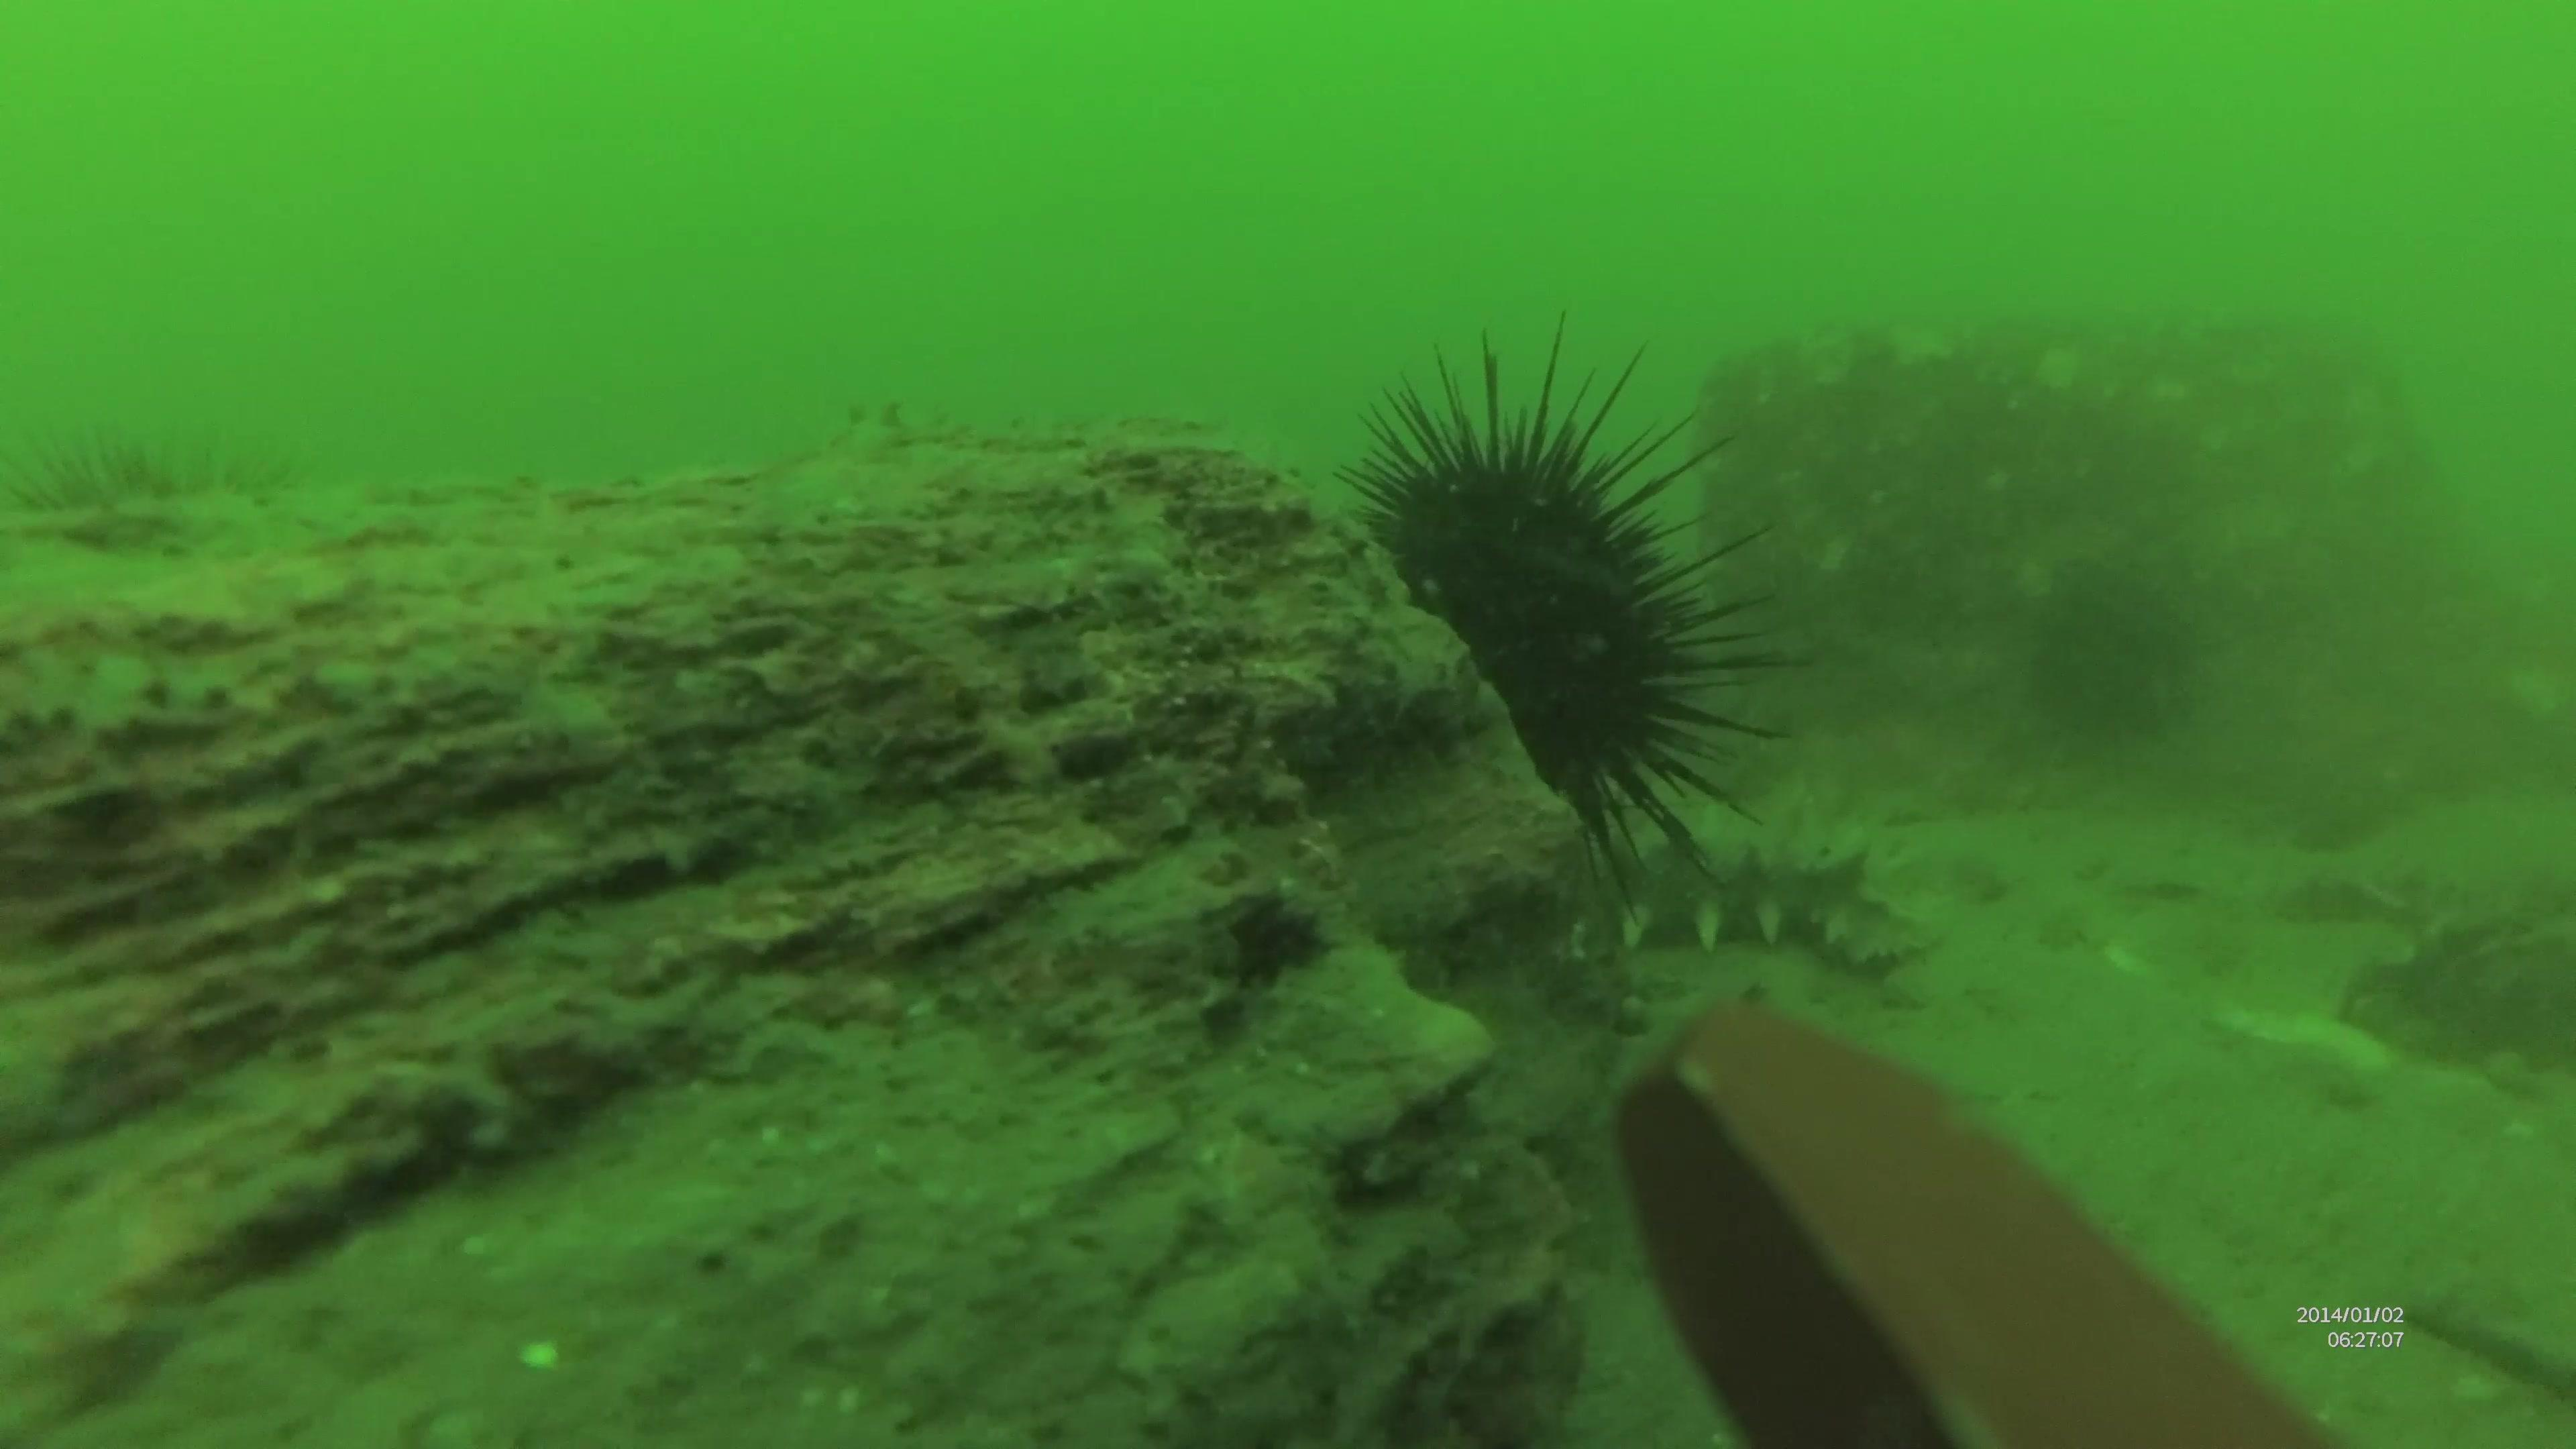echinus: (1304, 341, 1798, 895), (2028, 556, 2181, 731)
holothurian: (1557, 837, 1946, 989)
